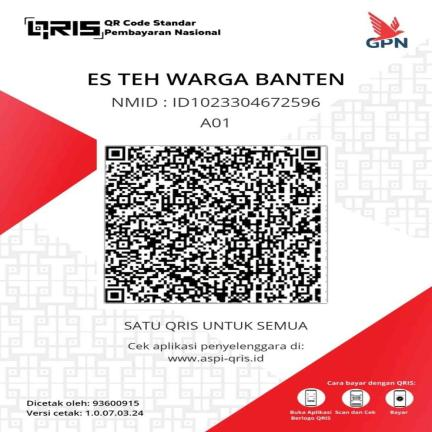Cara Pakai QRIS: (280, 377, 428, 429)
Cek Aplikasi Penyelenggara: (111, 339, 321, 366)
Dicetak Oleh: (25, 397, 144, 408)
Logo GPN: (355, 6, 415, 52)
Logo dan deskripsi QRIS: (20, 12, 232, 44)
Nama Merchant: (81, 67, 353, 89)
National Merchant ID: (104, 95, 328, 111)
QR Code: (97, 135, 332, 310)
Slogan: (112, 317, 321, 335)
Terminal ID: (194, 114, 241, 130)
Versi Cetak: (24, 409, 148, 418)
